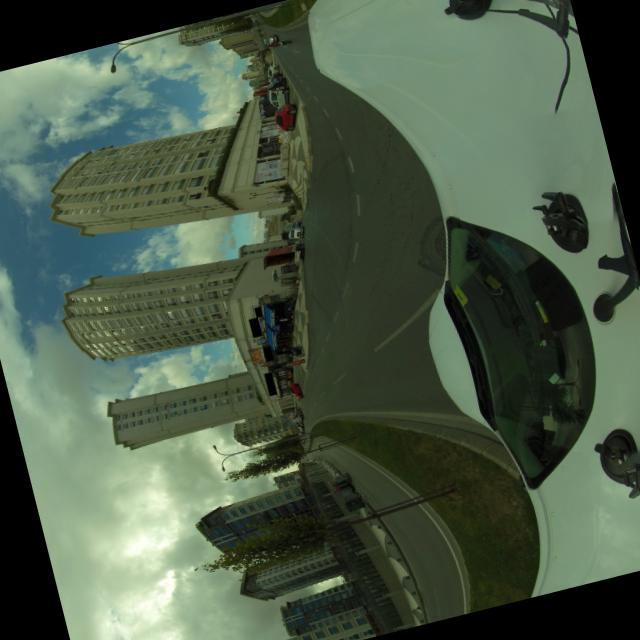SignStore: (264, 371, 277, 394), (248, 316, 260, 336), (263, 344, 272, 360), (255, 305, 261, 316)
